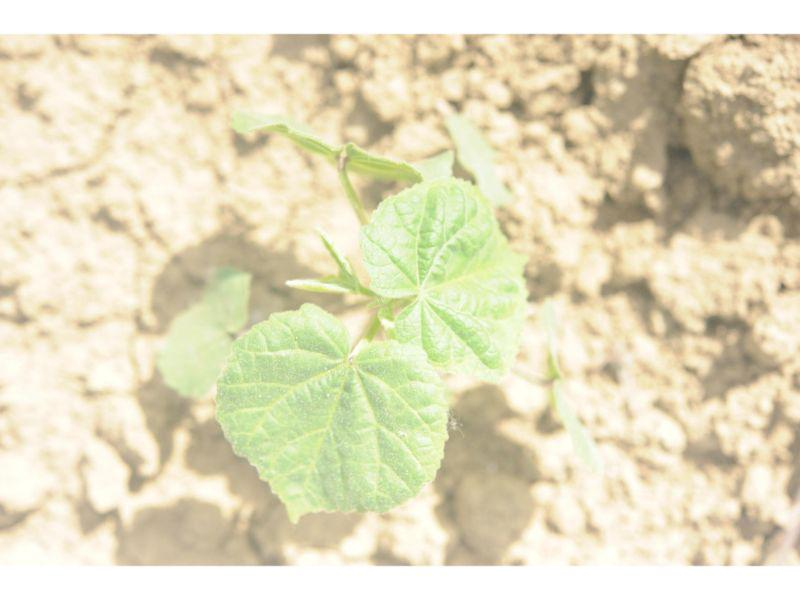velvet: (187, 106, 532, 514)
